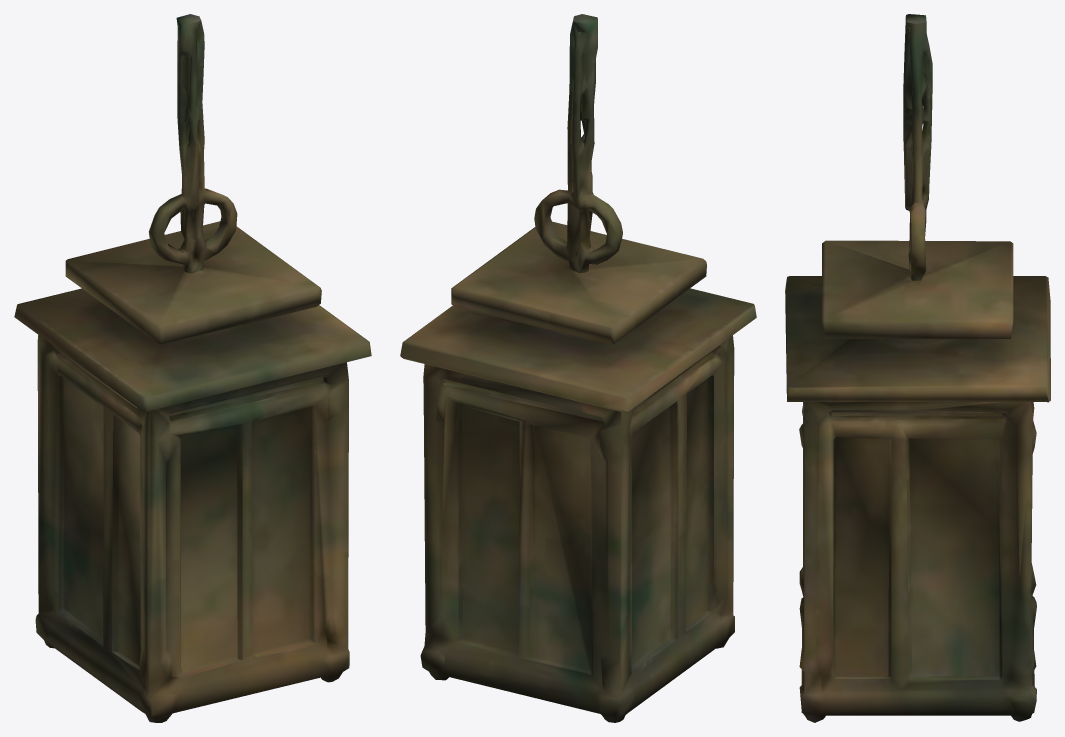
File: bronze-lantern-v001.glb
3 renders of one model, left to right at view 1: azimuth 30°, elevation 25°; view 2: azimuth 150°, elevation 25°; view 3: azimuth 270°, elevation 25°, orthographic.
Parts seen in each view (by area): view 1: bronze-lantern; view 2: bronze-lantern; view 3: bronze-lantern.
Part boxes in pixels (x1=…): bronze-lantern: x1=14, y1=14, x2=371, y2=722; bronze-lantern: x1=400, y1=14, x2=756, y2=722; bronze-lantern: x1=785, y1=14, x2=1050, y2=722.
Bounding box in the file's own units: 0.2208 × 0.5989 × 0.219.
1 material, 1 textured.
